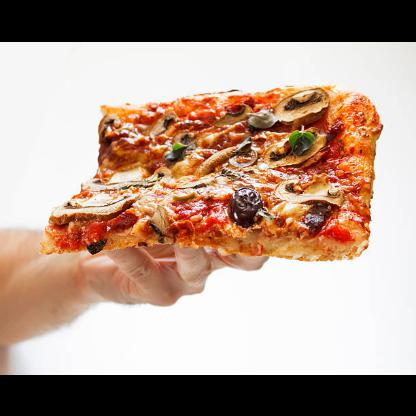pizza: (41, 84, 380, 260)
